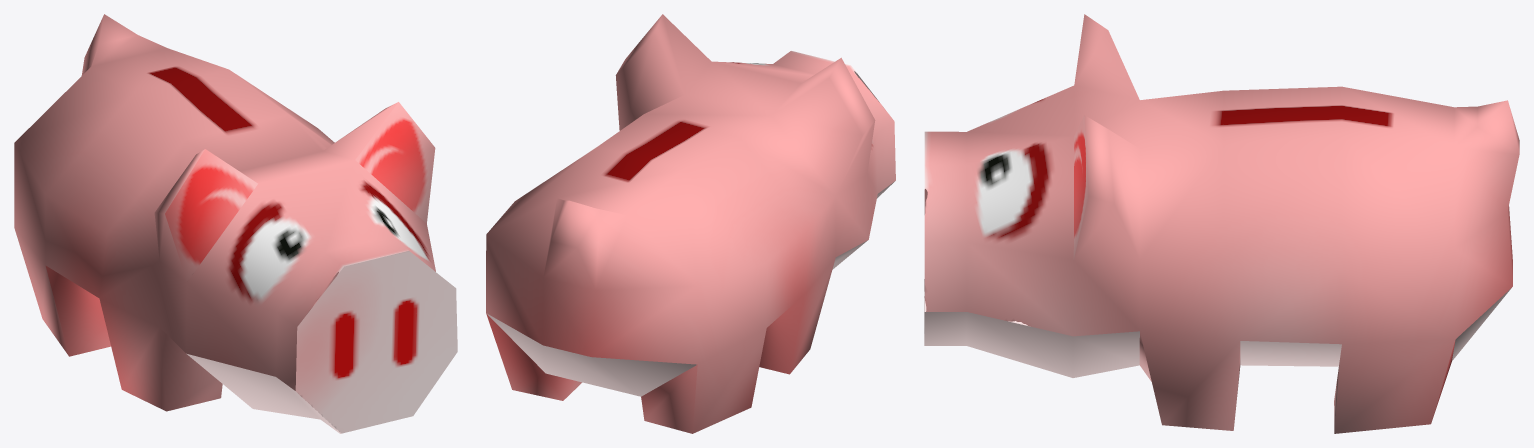
Rendered from PiggyBank.FBX.
3 renders of one model, left to right at view 1: azimuth 30°, elevation 25°; view 2: azimuth 150°, elevation 25°; view 3: azimuth 270°, elevation 25°, orthographic. The views are drawn at different scales.
Visible parts, largest first — view 1: PiggyBank; view 2: PiggyBank; view 3: PiggyBank.
Boxes of the visible parts, x1=… form: PiggyBank: x1=14, y1=14, x2=457, y2=433; PiggyBank: x1=486, y1=14, x2=895, y2=433; PiggyBank: x1=924, y1=14, x2=1519, y2=433.
Bounding box in the file's own units: 35.22 × 35.64 × 62.23.
1 material, 1 textured.
